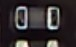COMP: (8, 5, 64, 33)
GAP: (15, 21, 60, 47)
